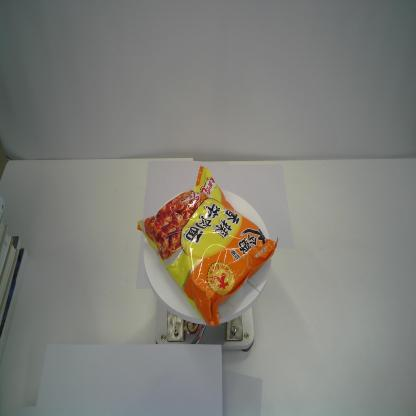Instant Noodles: (136, 164, 279, 327)
